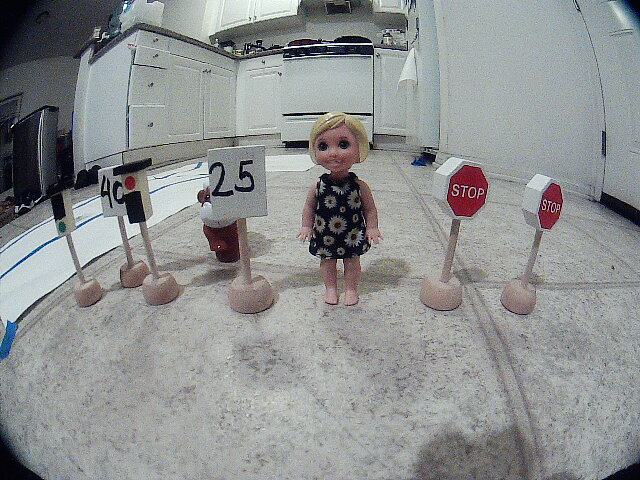Green Traffic Light: (28, 180, 98, 258)
Person: (289, 115, 397, 333)
Red Traffic Light: (119, 165, 155, 235)
Speed Limit 25: (206, 144, 279, 229)
Speed Limit 40: (93, 165, 125, 220)
Stop Sign: (428, 150, 506, 234), (524, 169, 577, 248)
